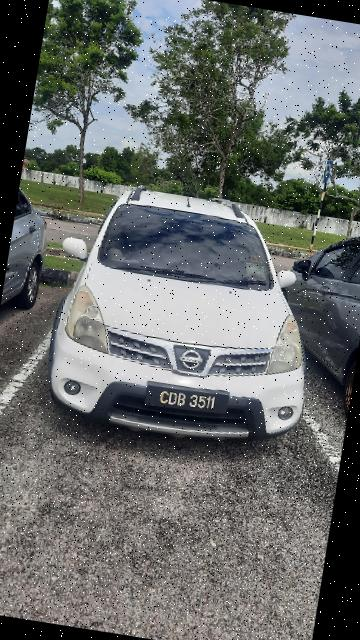License_Plate: (143, 379, 231, 421)
car: (27, 167, 341, 466)
